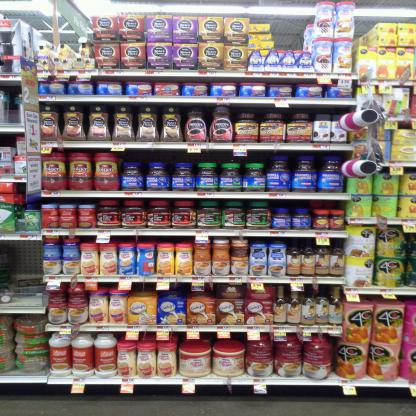Void: (3, 240, 40, 302), (270, 24, 303, 52), (355, 22, 376, 47)
